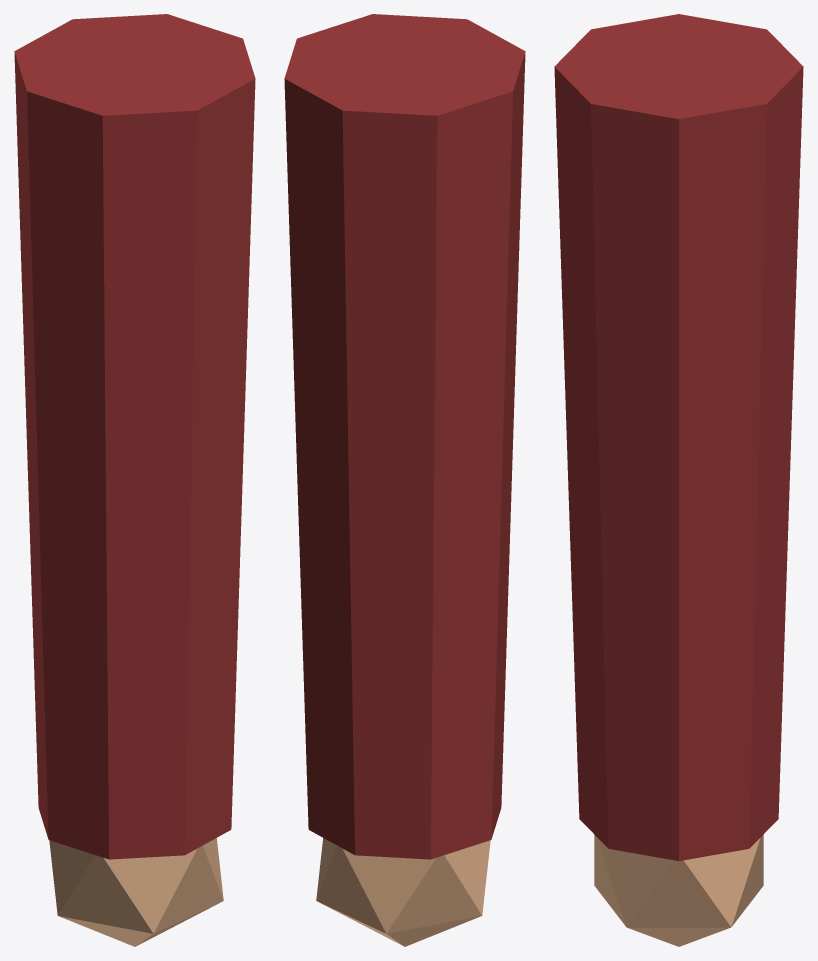
The model's file is insan_k3s_kol.glb.
3 views of the same model, side by side, from view 1: azimuth 30°, elevation 25°; view 2: azimuth 150°, elevation 25°; view 3: azimuth 270°, elevation 25° (orthographic).
Parts seen in each view (by area): view 1: Cone; view 2: Cone; view 3: Cone.
Part boxes in pixels (<box>): Cone: <box>14,14,255,946</box>; Cone: <box>284,14,525,946</box>; Cone: <box>554,14,803,946</box>.
Size of the model in its own units: 0.03 by 0.117 by 0.03.
